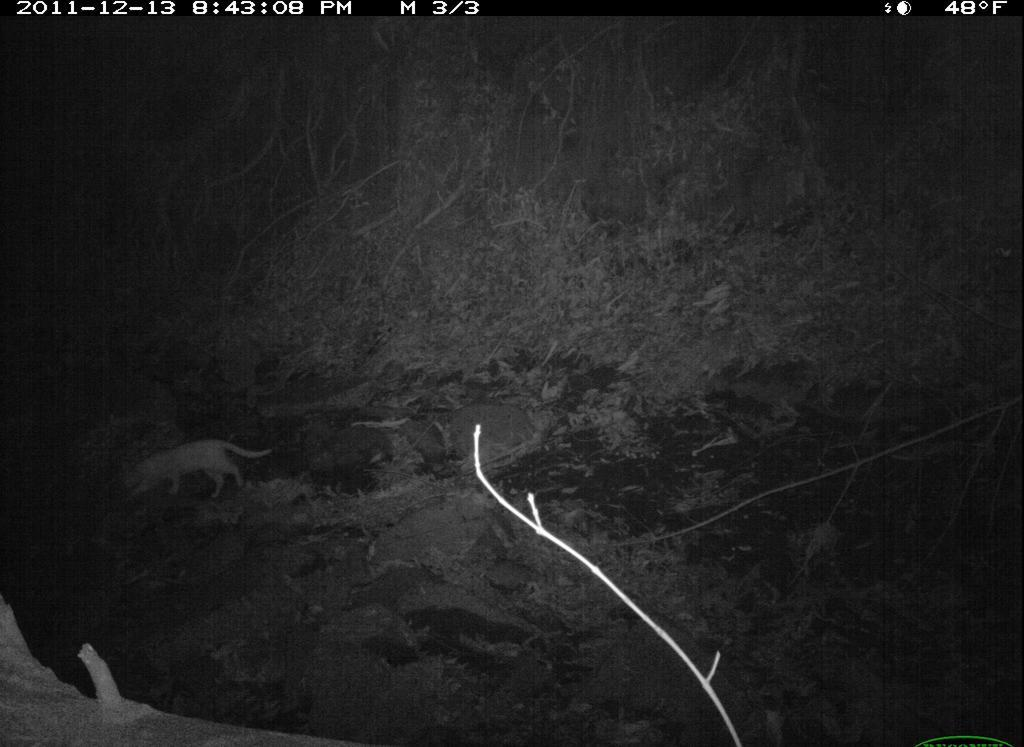cat: (99, 424, 285, 524)
